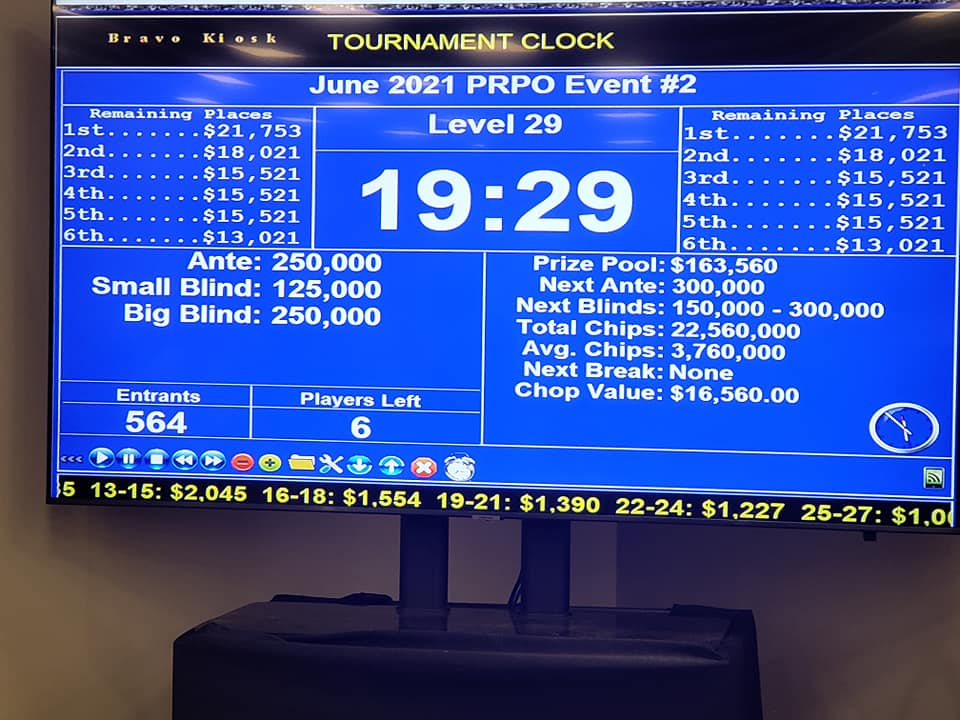PlayersLeft: (249, 380, 486, 448)
Remaining: (676, 103, 960, 259), (56, 101, 318, 251)
TournamentClock: (51, 68, 960, 460)
